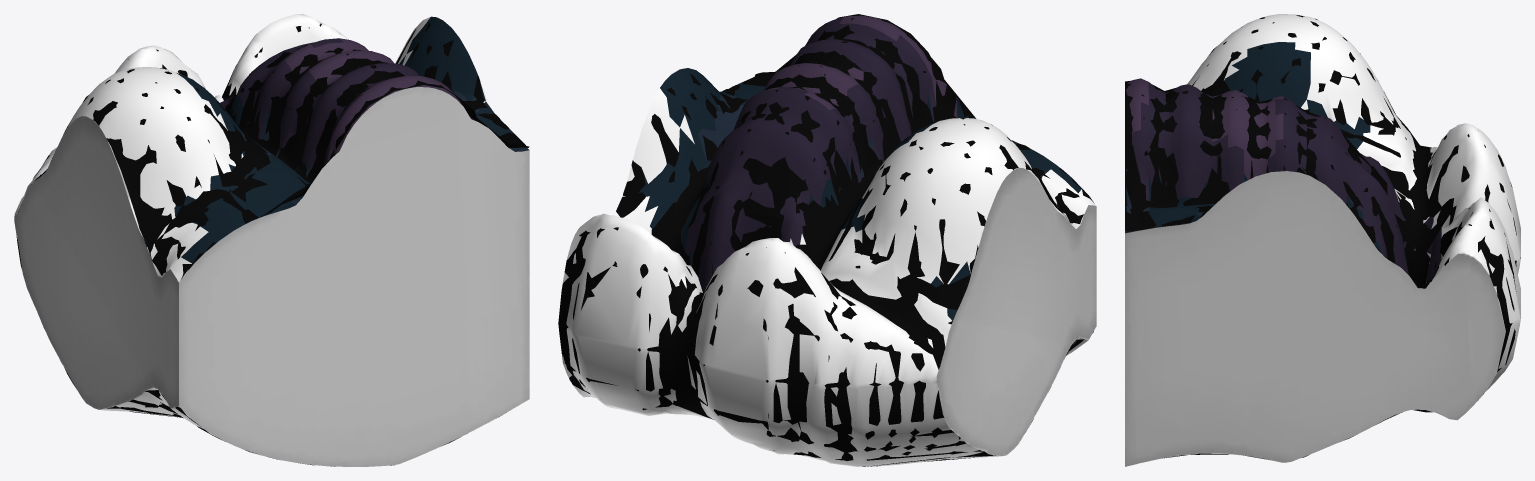
Rendered from newshn-5.glb.
3 views of the same model, side by side, from view 1: azimuth 30°, elevation 25°; view 2: azimuth 150°, elevation 25°; view 3: azimuth 270°, elevation 25° (orthographic). The views are drawn at different scales.
Visible parts, largest first — view 1: newshn-5, newshn-5_outline; view 2: newshn-5, newshn-5_outline; view 3: newshn-5, newshn-5_outline.
Boxes of the visible parts, x1,y1,x2,y2 form: newshn-5: [14, 14, 529, 466]; newshn-5_outline: [16, 23, 529, 466]; newshn-5: [562, 15, 1096, 466]; newshn-5_outline: [558, 14, 1094, 466]; newshn-5: [1125, 14, 1520, 466]; newshn-5_outline: [1125, 15, 1520, 459].
Size of the model in its own units: 2 by 2.06 by 2.08.
Materials: 14 (13 with a texture image).
